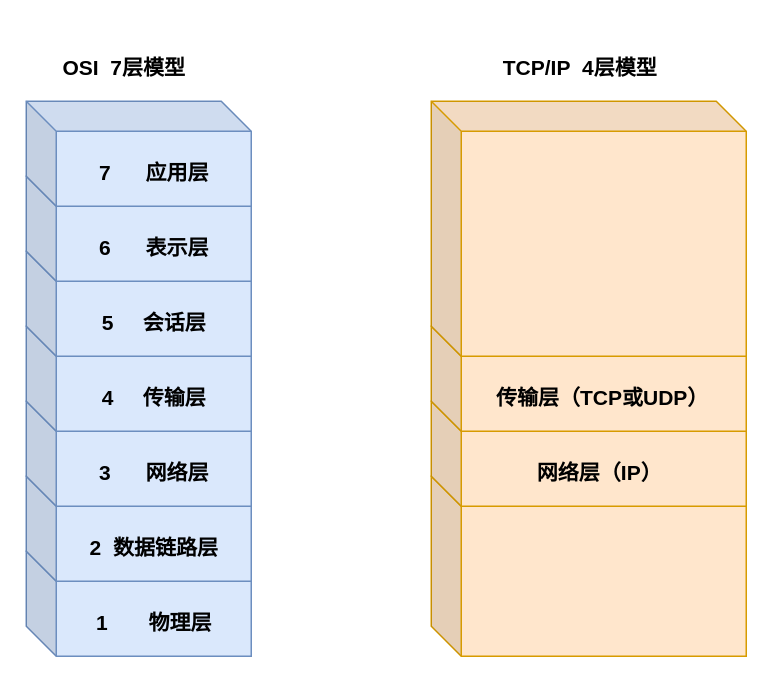
Image size: 773x683. Some labels were removed from this diagram. Each missing label, with the centre of its shape:
应用层 各种应用层协议： TELNET、FTP、SMTP: the point at 588,228
网络接口层: the point at 588,565
